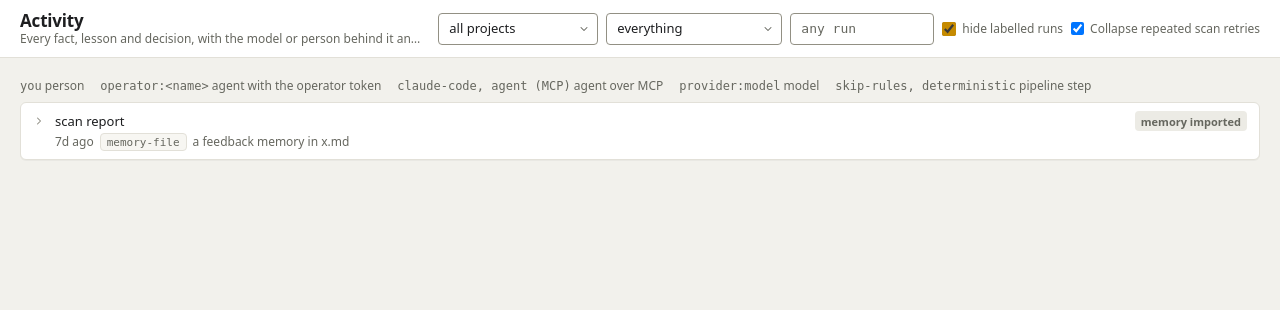
Test: an entry whose details the list left out fetches them when expanded, once
What coordinates should you click on to do the following:
click the text "scan report"
I would click on:
 (90, 120)
Its box is 55,112 -> 124,130.
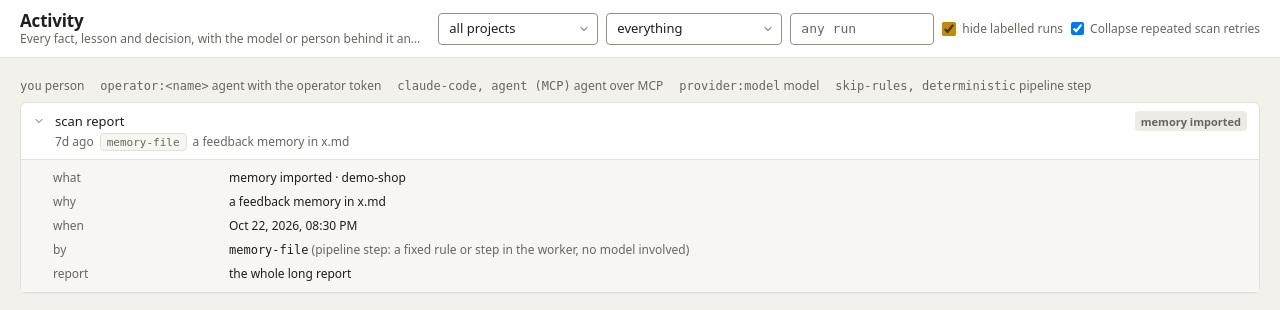
Check: the text "the whole long report" is shown, box 229,265 -> 351,282
What coordinates should you click on to do the following:
click the text "scan report"
I would click on:
 (90, 120)
Its box is 55,112 -> 124,130.
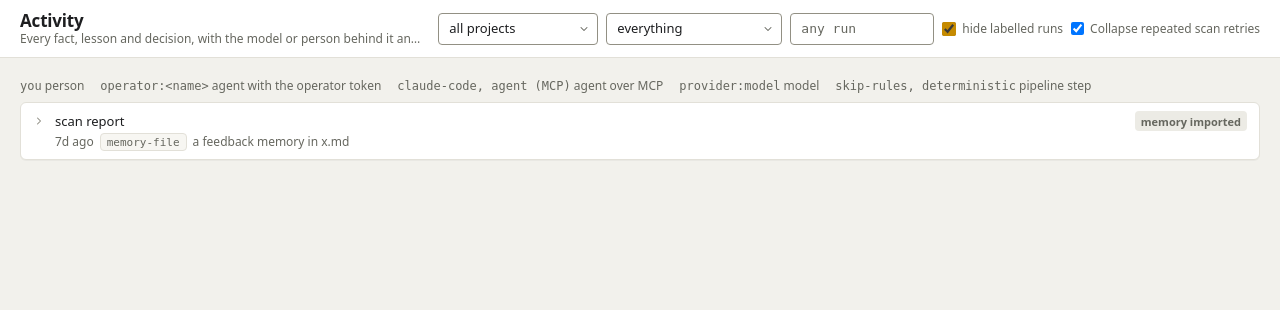
What coordinates should you click on to do the following:
click the text "scan report"
I would click on:
 (90, 120)
Its box is 55,112 -> 124,130.
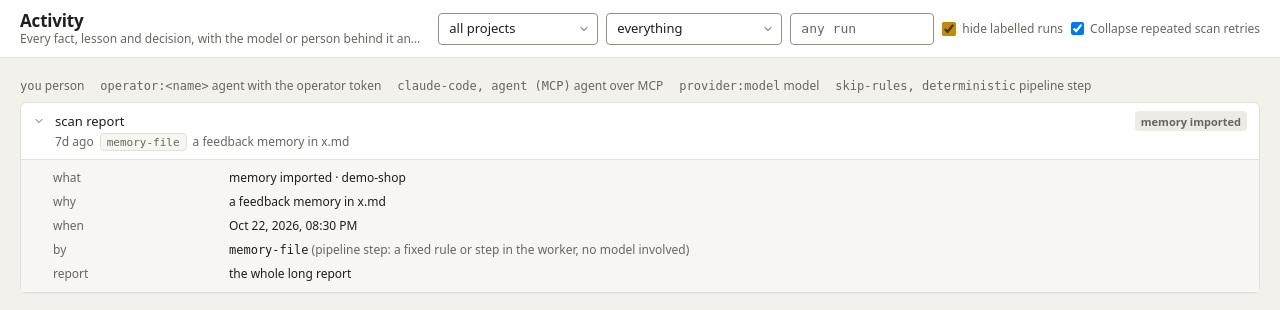
Check: the text "the whole long report" is shown, box 229,265 -> 351,282
